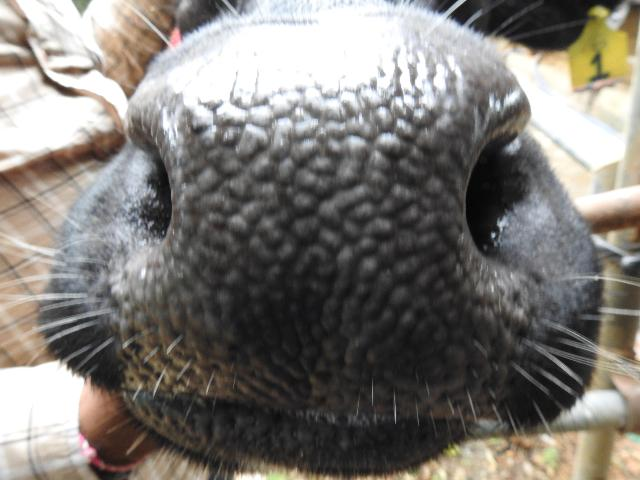Muzzle: (147, 94, 476, 410)
